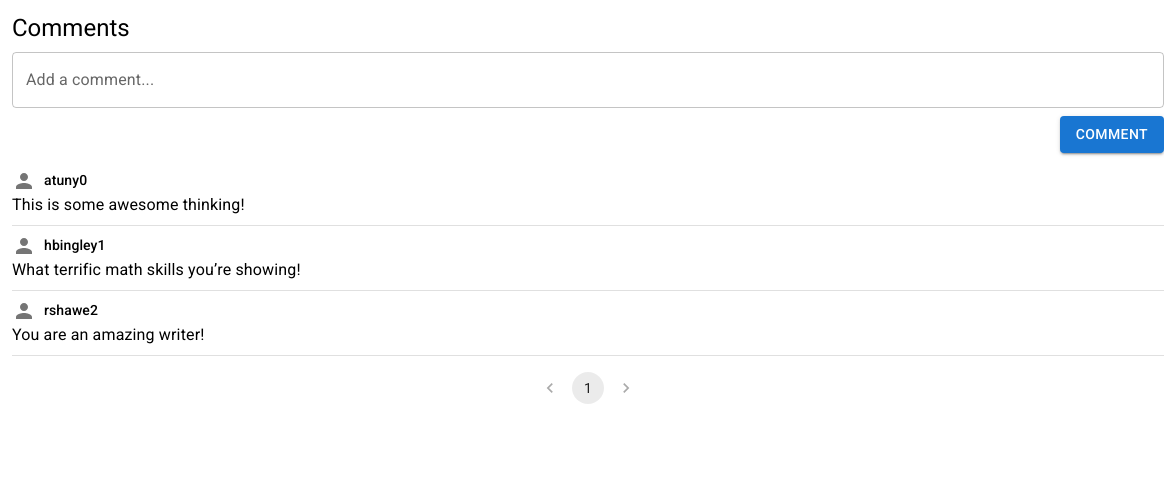
adds comment to the list
expect the number of elements with test id "comment-list-item" is 3: met, box [12, 168, 245, 214]; [12, 234, 301, 278]; [12, 298, 204, 344]
In the text box labelled "Add a comment...": point(588, 80) [26, 68, 1150, 92], type "Test comment"
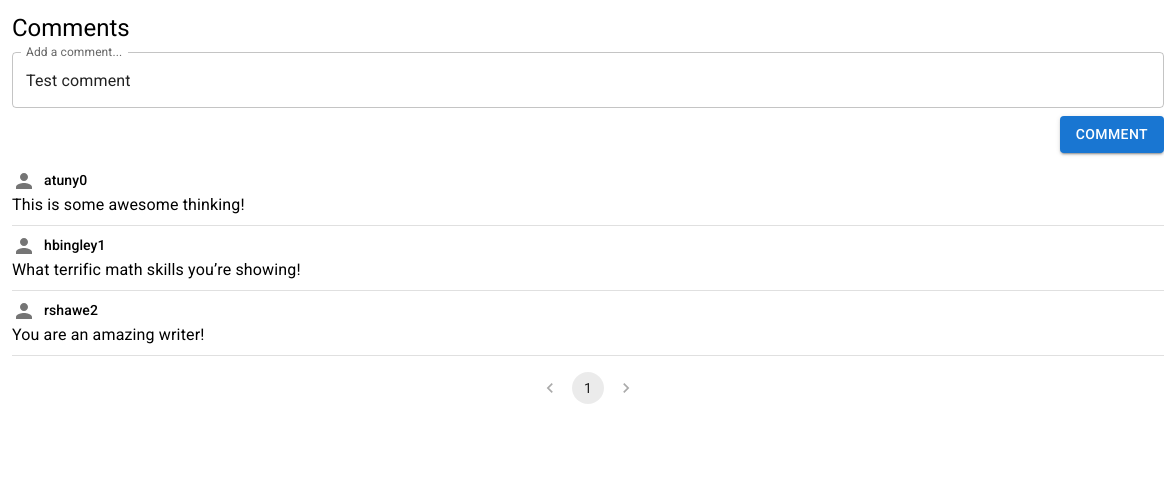
Click the button "Comment": point(1112, 134) [1060, 116, 1164, 152]
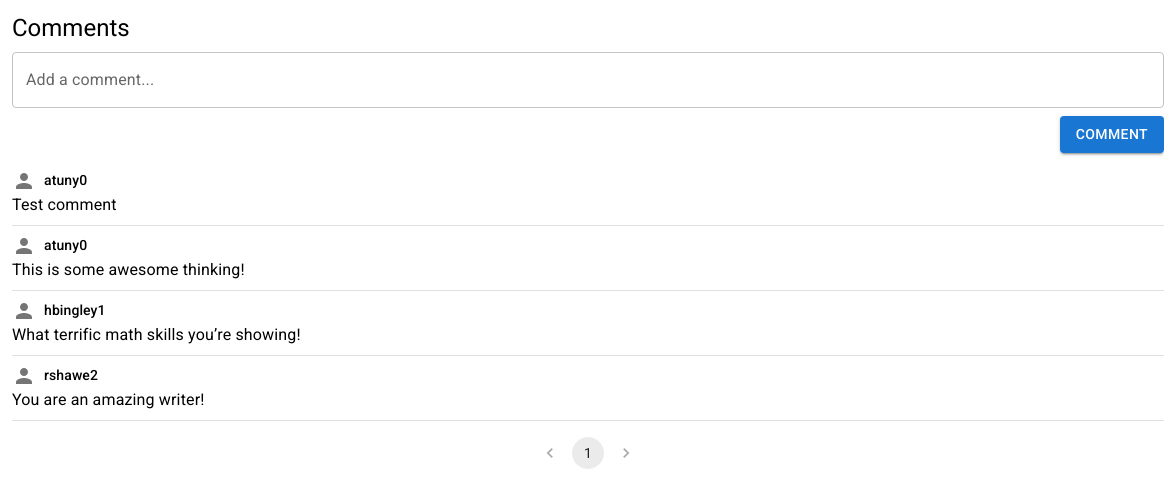
expect the text box labelled "Add a comment..." is empty: met, box [26, 68, 1150, 92]
expect the number of elements with test id "comment-list-item" is 4: met, box [12, 168, 117, 214]; [12, 234, 245, 278]; [12, 298, 301, 344]; [12, 364, 204, 408]
expect the text "Test comment" is shown: met, box [12, 194, 117, 214]
